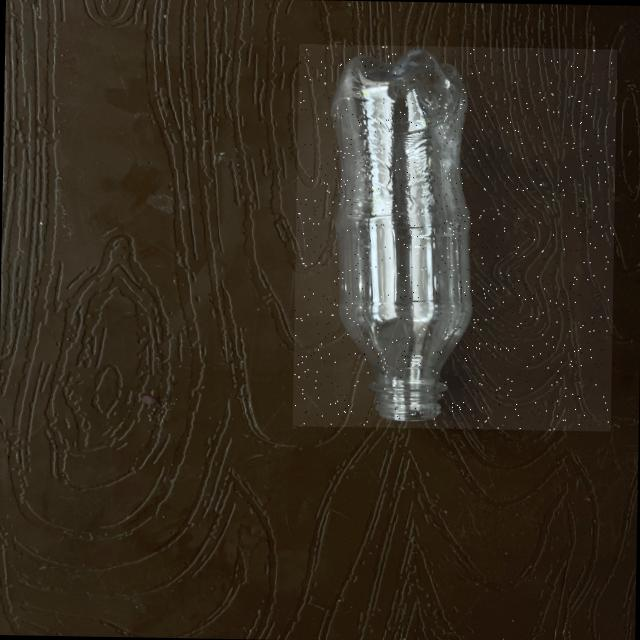PET_ClearBottle: (292, 44, 617, 431)
